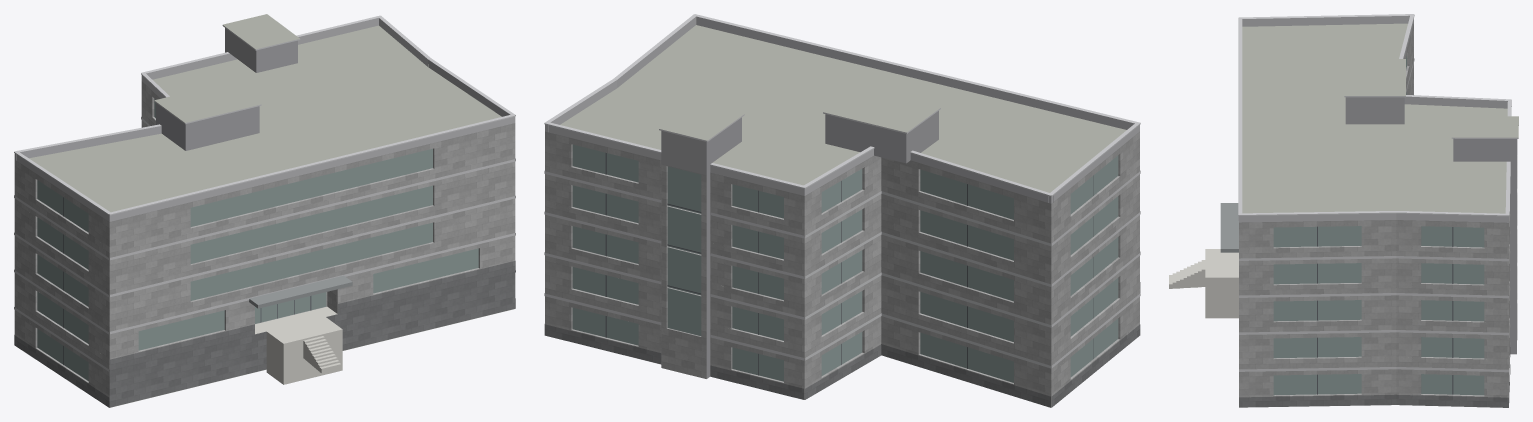
3 renders of one model, left to right at view 1: azimuth 30°, elevation 25°; view 2: azimuth 150°, elevation 25°; view 3: azimuth 270°, elevation 25°, orthographic. The views are drawn at different scales.
Visible parts, largest first — view 1: jahayeonCafeteria__wall, jahayeonCafeteria__roof, jahayeonCafeteria__glass, jahayeonCafeteria__base, jahayeonCafeteria__trim, jahayeonCafeteria__parapet, jahayeonCafeteria__entranceStair, jahayeonCafeteria__wall2, jahayeonCafeteria__canopy; view 2: jahayeonCafeteria__wall, jahayeonCafeteria__roof, jahayeonCafeteria__glass, jahayeonCafeteria__trim, jahayeonCafeteria__parapet, jahayeonCafeteria__wall2, jahayeonCafeteria__base, jahayeonCafeteria__frame; view 3: jahayeonCafeteria__roof, jahayeonCafeteria__wall, jahayeonCafeteria__glass, jahayeonCafeteria__trim, jahayeonCafeteria__wall2, jahayeonCafeteria__parapet, jahayeonCafeteria__entranceStair, jahayeonCafeteria__base, jahayeonCafeteria__canopy.
Boxes of the visible parts, <box> form: jahayeonCafeteria__wall: <box>14,81,515,407</box>; jahayeonCafeteria__roof: <box>29,14,514,407</box>; jahayeonCafeteria__glass: <box>37,98,478,380</box>; jahayeonCafeteria__base: <box>14,260,515,407</box>; jahayeonCafeteria__trim: <box>14,15,515,371</box>; jahayeonCafeteria__parapet: <box>14,18,515,221</box>; jahayeonCafeteria__entranceStair: <box>255,306,342,384</box>; jahayeonCafeteria__wall2: <box>156,28,297,150</box>; jahayeonCafeteria__canopy: <box>249,275,352,308</box>; jahayeonCafeteria__wall: <box>545,131,1139,407</box>; jahayeonCafeteria__roof: <box>560,25,1126,192</box>; jahayeonCafeteria__glass: <box>572,144,1118,382</box>; jahayeonCafeteria__trim: <box>544,14,1140,368</box>; jahayeonCafeteria__parapet: <box>545,16,1139,203</box>; jahayeonCafeteria__wall2: <box>661,111,938,378</box>; jahayeonCafeteria__base: <box>544,282,1140,407</box>; jahayeonCafeteria__frame: <box>605,153,1093,375</box>; jahayeonCafeteria__roof: <box>1242,23,1518,407</box>; jahayeonCafeteria__wall: <box>1239,23,1517,402</box>; jahayeonCafeteria__glass: <box>1273,55,1484,395</box>; jahayeonCafeteria__trim: <box>1238,14,1518,372</box>; jahayeonCafeteria__wall2: <box>1345,97,1517,354</box>; jahayeonCafeteria__parapet: <box>1238,15,1509,222</box>; jahayeonCafeteria__entranceStair: <box>1169,249,1238,318</box>; jahayeonCafeteria__base: <box>1239,347,1510,407</box>; jahayeonCafeteria__canopy: <box>1220,203,1238,252</box>.
Bounding box in the file's own units: 42.06 × 21.45 × 30.88.
11 materials, 2 textured.
